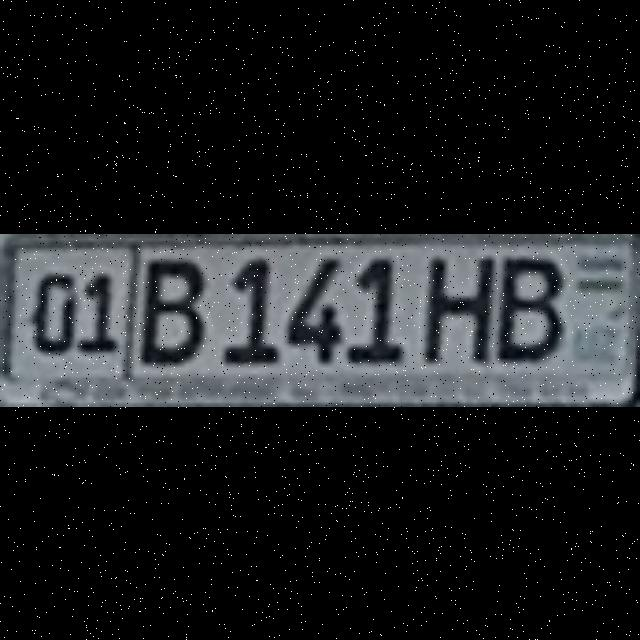0: (30, 270, 70, 344)
1: (218, 255, 274, 359), (344, 255, 400, 359), (78, 270, 114, 348)
4: (285, 255, 337, 355)
B: (136, 259, 200, 355), (499, 251, 558, 355)
H: (422, 252, 488, 358)
